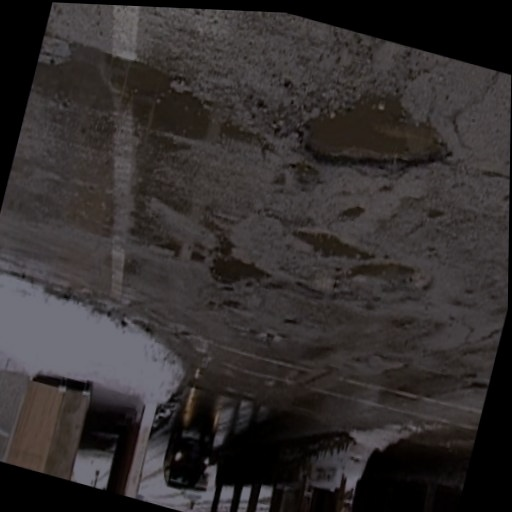pothole: (27, 30, 227, 154), (288, 69, 462, 202), (333, 242, 437, 312), (285, 223, 375, 273), (203, 249, 274, 305)
